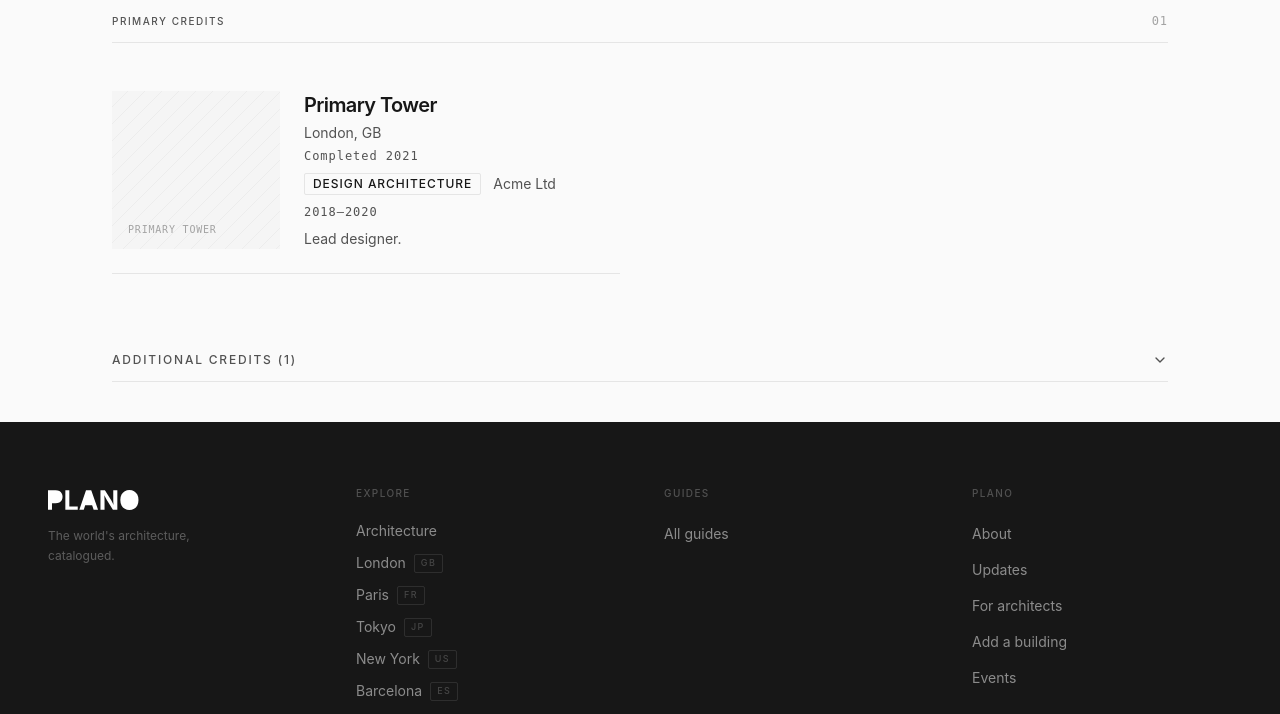
Test: PersonDetails (QA 3.1 unclaimed) › lists primary credits openly and ancillary behind a toggle
(page scrolled)
Expected: the heading "Primary credits 01" is shown, x1=112 y1=12 x2=1168 y2=43
Expected: the link "Primary Tower" is shown, x1=304 y1=93 x2=437 y2=117
Click the button "Additional credits (1)" at (198, 359), box x1=112 y1=338 x2=1168 y2=382
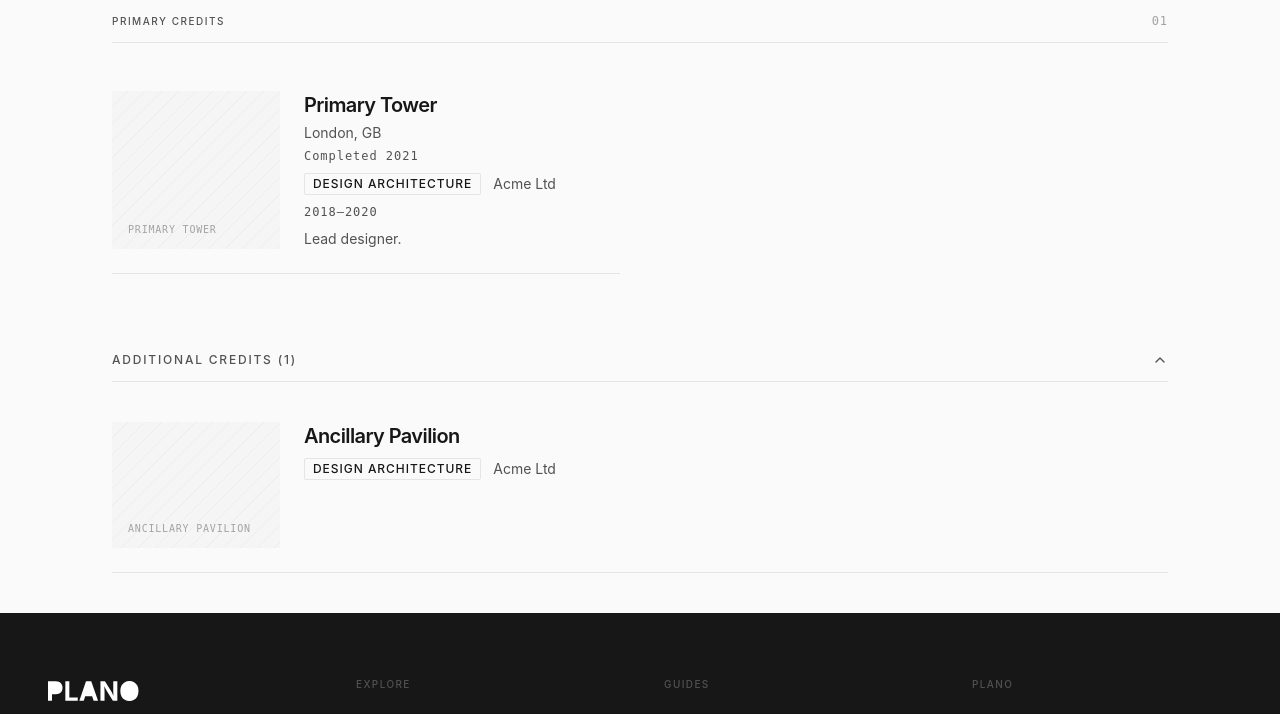
Result: the link "Ancillary Pavilion" is shown at x1=304 y1=424 x2=460 y2=448
